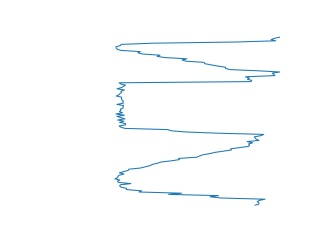distributaryChannelFill: (112, 71, 267, 142)
mouthBar: (112, 32, 283, 76)
underwaterDistributaryChannel: (112, 137, 267, 209)
